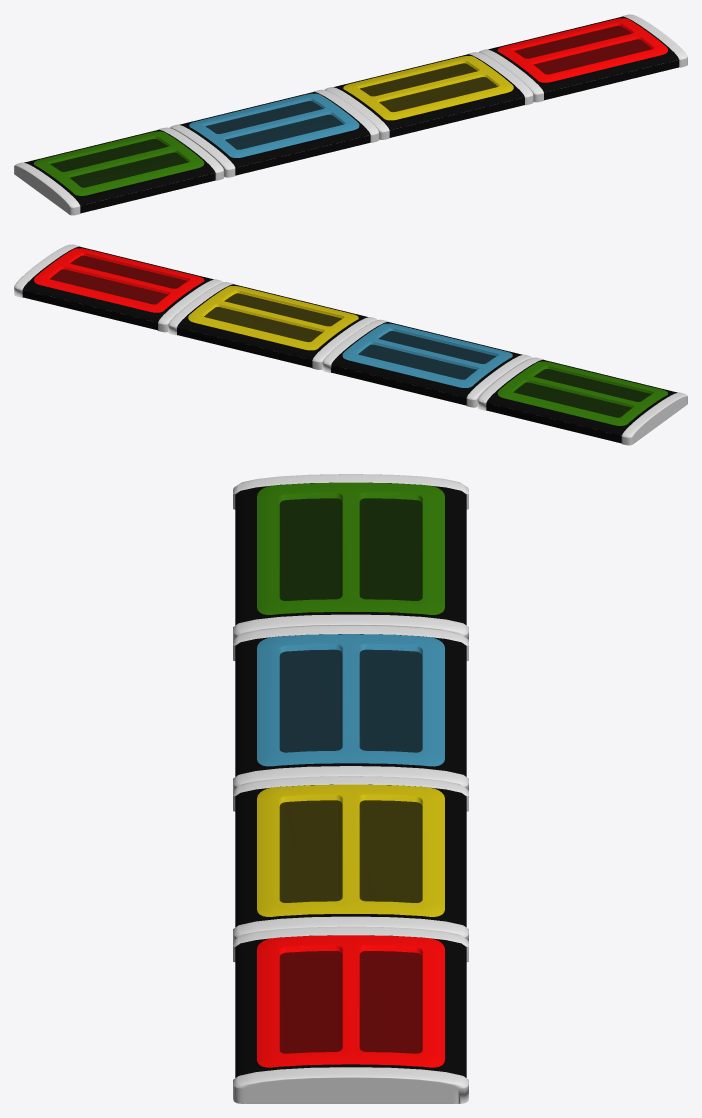
File: Drums_Frets_Test.fbx
3 views of the same model, one above another, from view 1: azimuth 30°, elevation 25°; view 2: azimuth 150°, elevation 25°; view 3: azimuth 270°, elevation 25° (orthographic). The views are drawn at different scales.
Visible parts, largest first — view 1: 4_Green, 3_Blue, 1_Red, 2_Yellow; view 2: 4_Green, 3_Blue, 1_Red, 2_Yellow; view 3: 1_Red, 4_Green, 2_Yellow, 3_Blue.
Boxes of the visible parts, x1=… form: 4_Green: x1=14, y1=127, x2=224, y2=215; 3_Blue: x1=170, y1=89, x2=379, y2=177; 1_Red: x1=478, y1=14, x2=687, y2=102; 2_Yellow: x1=324, y1=52, x2=533, y2=139; 4_Green: x1=477, y1=357, x2=687, y2=445; 3_Blue: x1=322, y1=319, x2=531, y2=407; 1_Red: x1=14, y1=244, x2=223, y2=332; 2_Yellow: x1=168, y1=282, x2=377, y2=369; 1_Red: x1=233, y1=926, x2=468, y2=1103; 4_Green: x1=233, y1=474, x2=468, y2=640; 2_Yellow: x1=233, y1=776, x2=468, y2=941; 3_Blue: x1=233, y1=625, x2=468, y2=791.
Size of the model in its own units: 13.53 by 0.3162 by 2.24.
